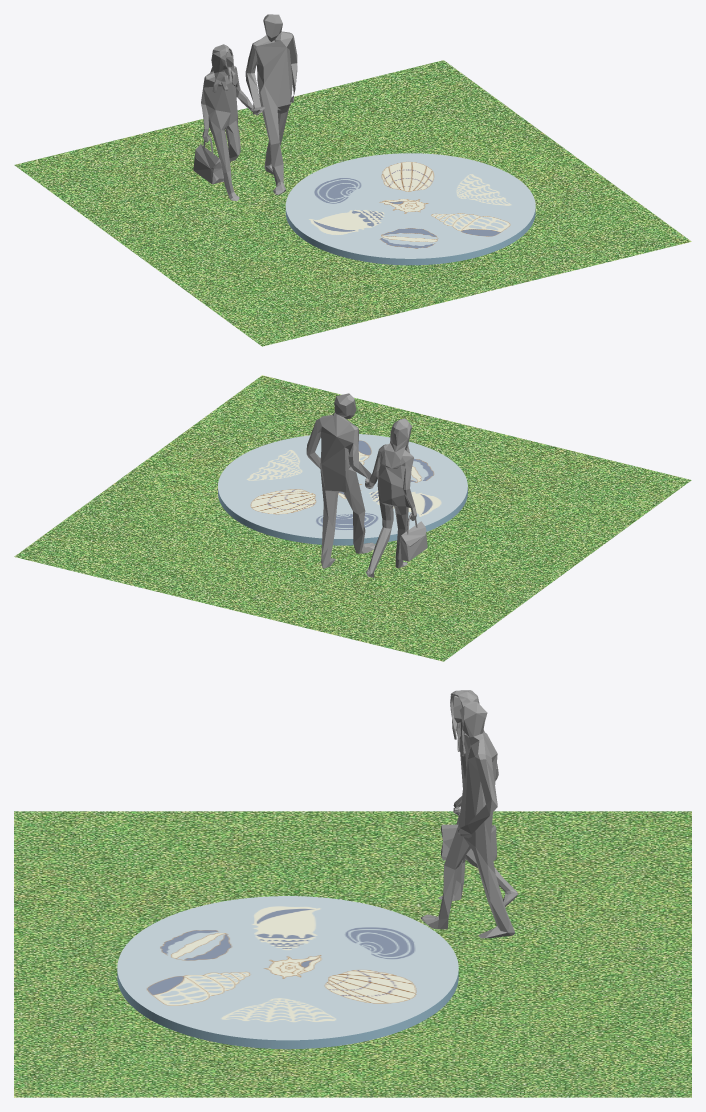
File: snackor3.glb
3 views of the same model, one above another, from view 1: azimuth 30°, elevation 25°; view 2: azimuth 150°, elevation 25°; view 3: azimuth 270°, elevation 25° (orthographic). The views are drawn at different scales.
Visible parts, largest first — view 1: Plane, Cylinder, Line001; view 2: Plane, Cylinder, Line001; view 3: Plane, Cylinder, Line001.
Part boxes in pixels (x1,y1,x2,y2): Plane: [14, 60, 691, 346]; Cylinder: [285, 153, 535, 265]; Line001: [193, 14, 297, 201]; Plane: [14, 375, 691, 661]; Cylinder: [218, 434, 467, 545]; Line001: [306, 393, 427, 577]; Plane: [14, 811, 691, 1097]; Cylinder: [117, 896, 458, 1049]; Line001: [420, 690, 518, 938].
Bounding box in the file's own units: 16.61 × 6.35 × 16.61.
4 materials, 2 textured.
